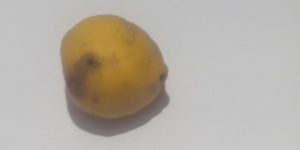BAD: (60, 13, 169, 118)
